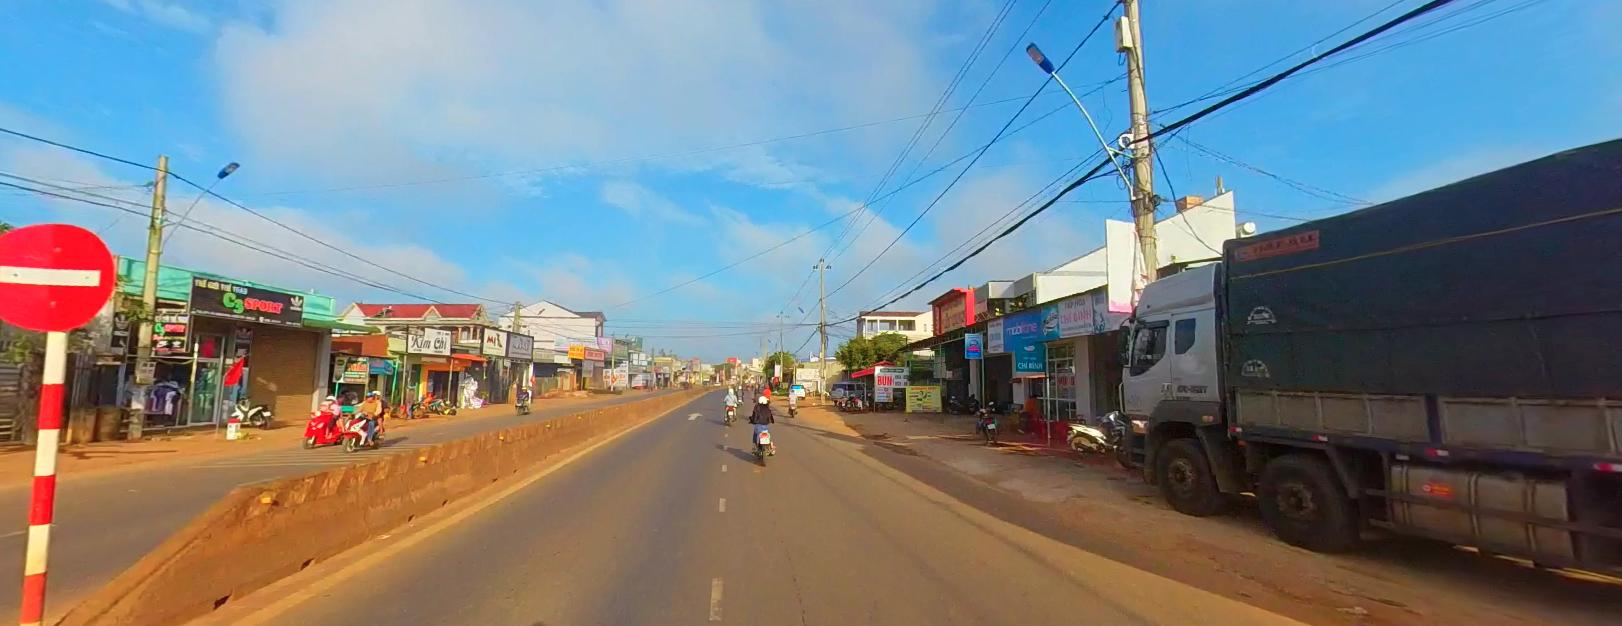Cam nguoc chieu: (0, 219, 119, 335), (0, 219, 118, 333), (0, 220, 116, 330), (1, 222, 118, 331), (0, 222, 115, 330)
